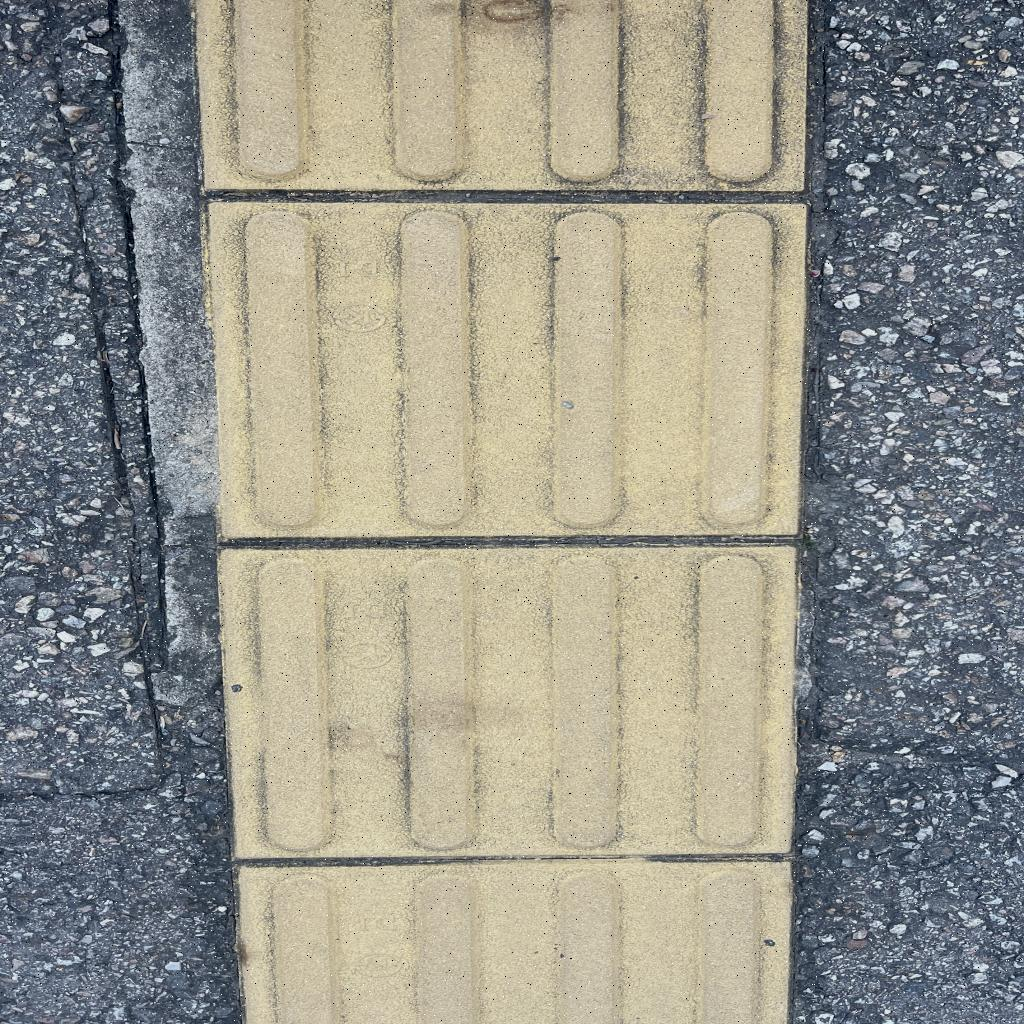Straight block normal: (215, 205, 800, 531), (226, 545, 797, 858)
